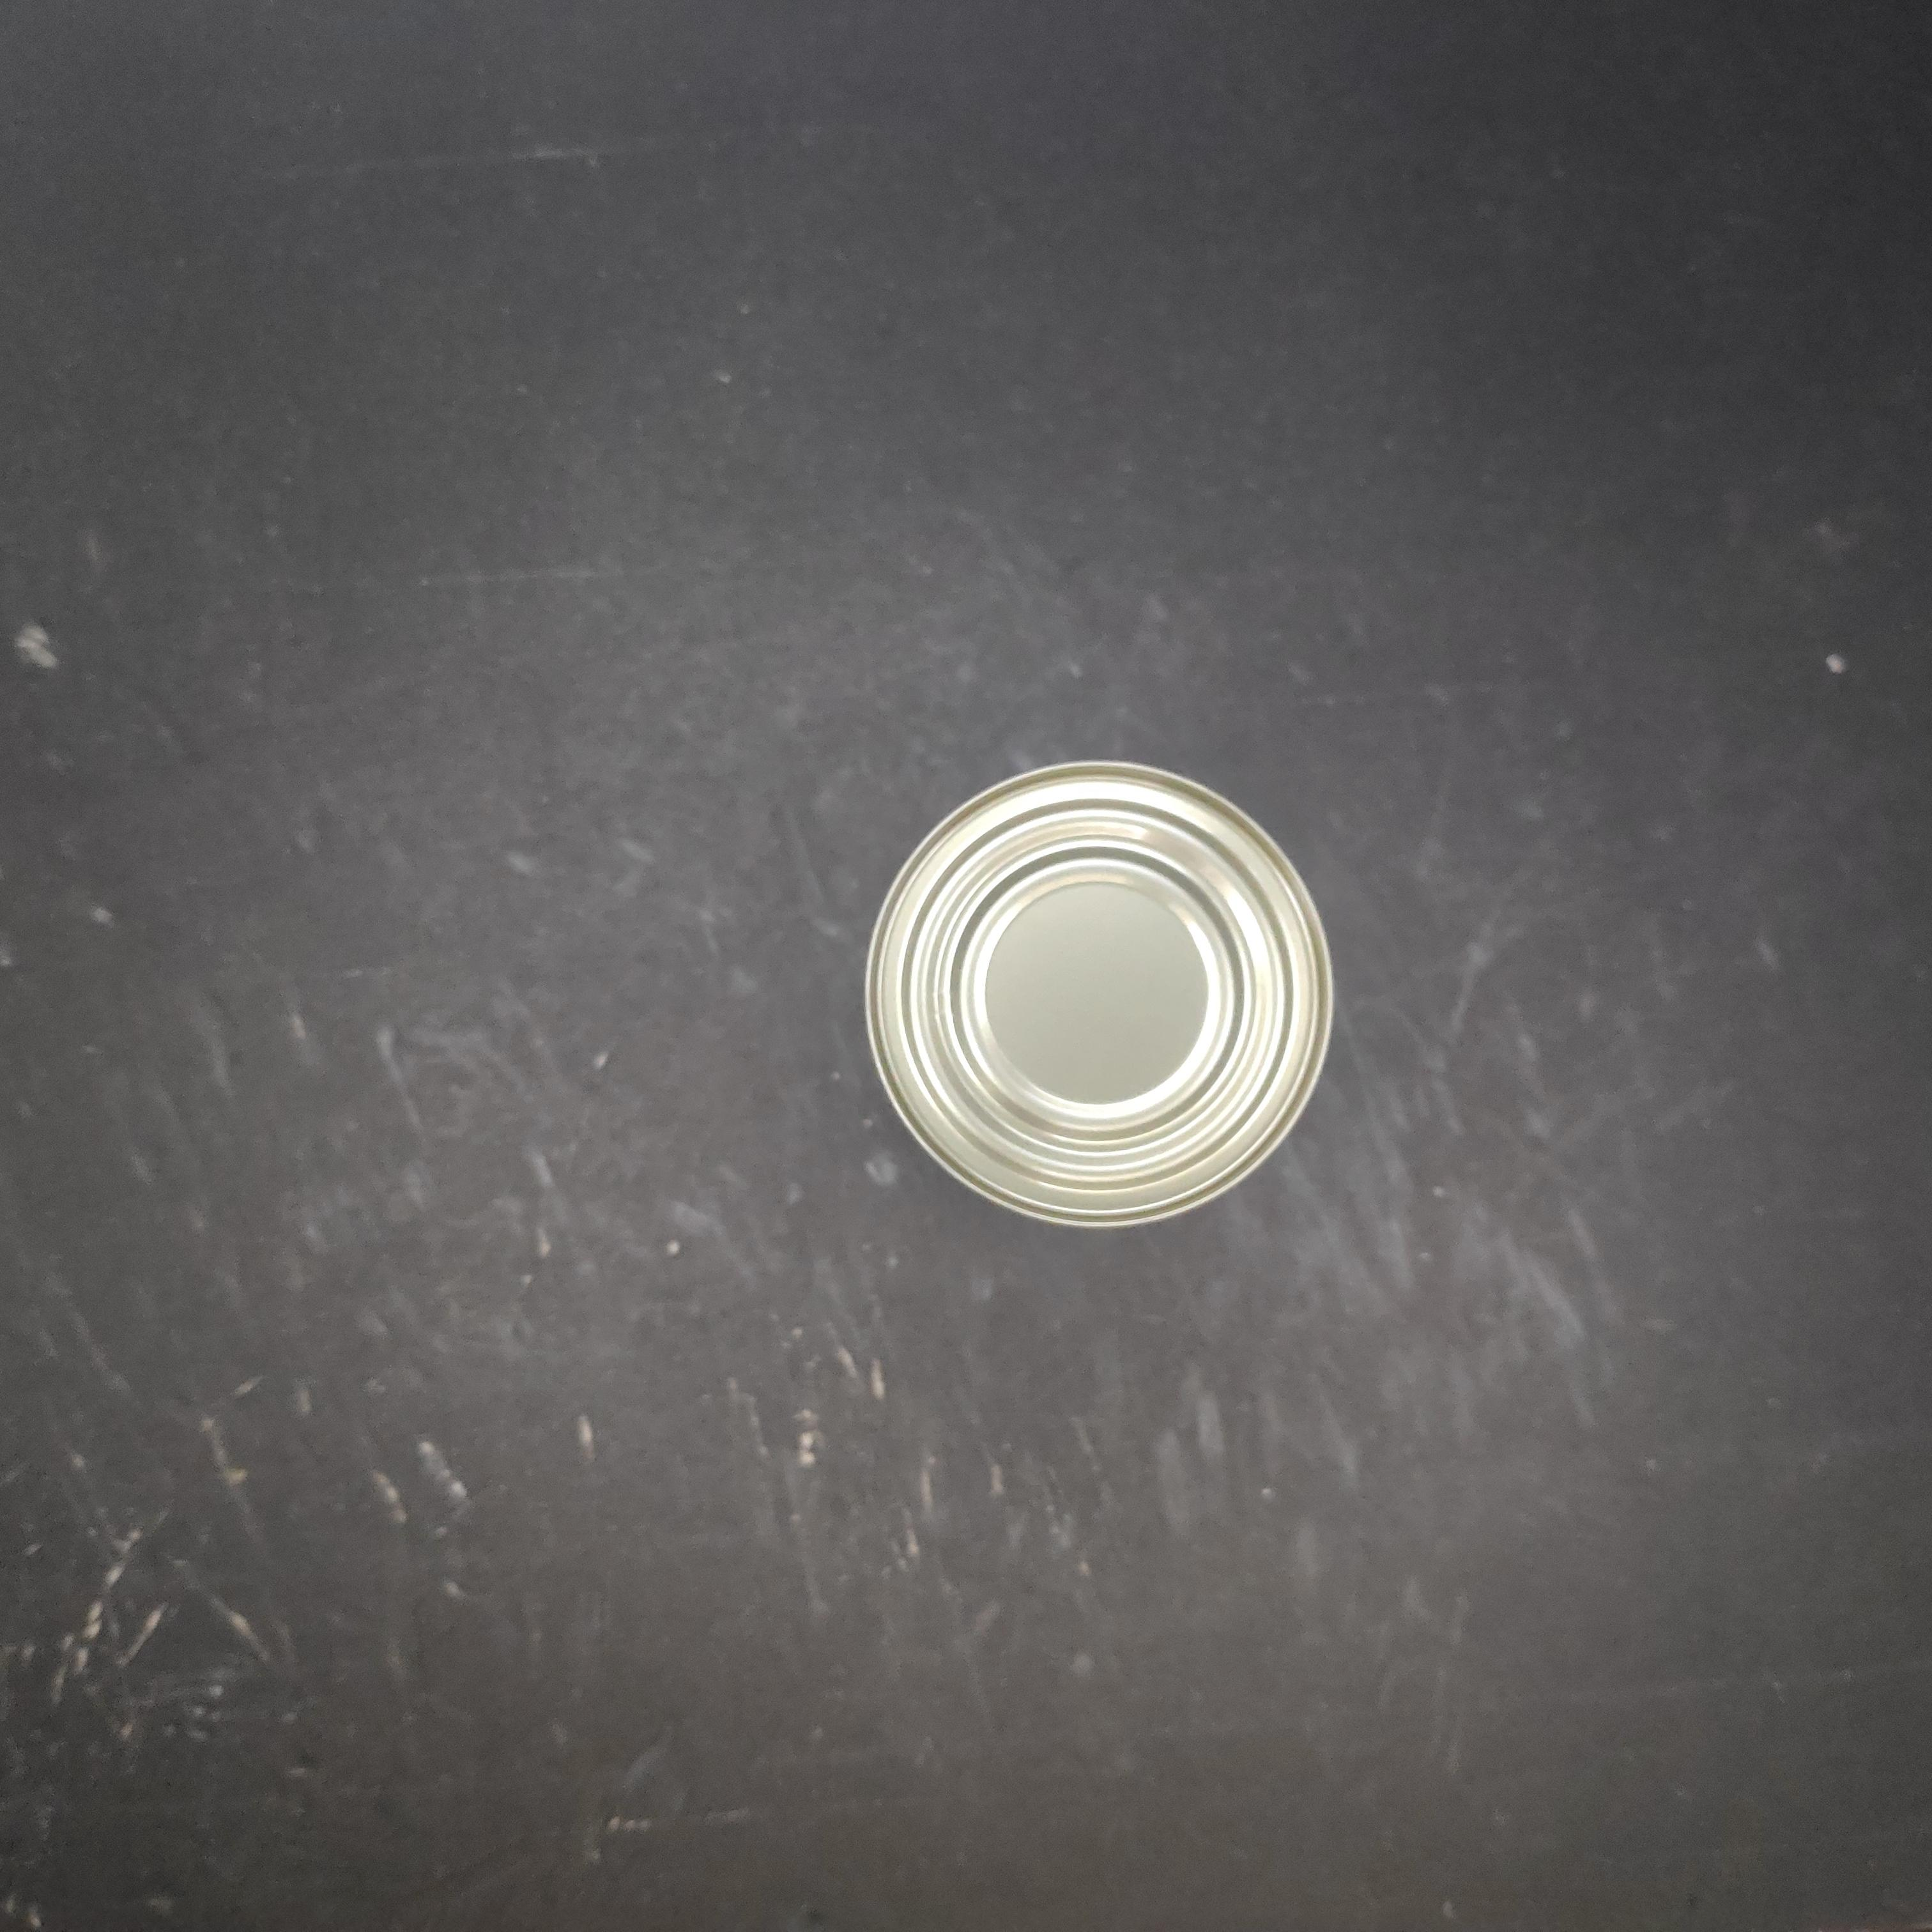No defect: (748, 589, 1238, 1079)
